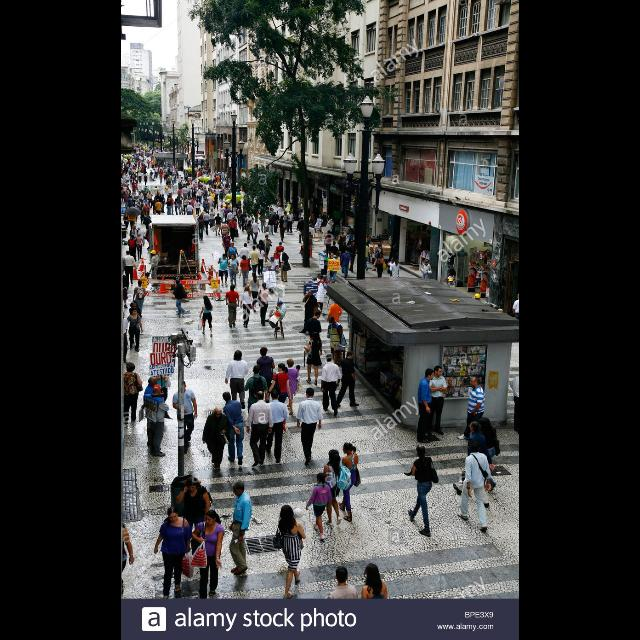head: (334, 567, 350, 585), (366, 564, 380, 580), (281, 504, 295, 520), (232, 479, 245, 496), (206, 509, 218, 526), (186, 478, 198, 492), (468, 440, 482, 452), (168, 507, 178, 523), (480, 418, 492, 430), (342, 442, 353, 454), (417, 445, 428, 457), (293, 508, 303, 520), (471, 422, 481, 434), (426, 368, 436, 380), (330, 451, 340, 462), (471, 378, 482, 388), (270, 391, 280, 402), (178, 381, 188, 392), (317, 474, 327, 484), (434, 366, 444, 376), (256, 391, 266, 401), (148, 377, 158, 387), (126, 362, 136, 372), (307, 388, 315, 398), (224, 392, 232, 402), (215, 408, 223, 418), (154, 385, 162, 395), (347, 350, 355, 360), (278, 363, 286, 372), (254, 366, 262, 374), (312, 333, 320, 341), (235, 351, 242, 359), (262, 348, 268, 357), (288, 359, 294, 367), (327, 354, 333, 362), (316, 311, 322, 319), (330, 317, 336, 325), (132, 308, 138, 316), (132, 300, 138, 308), (334, 298, 340, 304), (308, 290, 314, 296), (278, 300, 284, 306), (322, 275, 328, 281), (262, 282, 268, 288), (244, 286, 250, 292), (230, 285, 236, 291), (252, 272, 258, 278), (120, 312, 126, 318), (138, 280, 144, 286), (151, 251, 157, 257), (242, 255, 248, 261), (277, 250, 283, 256), (232, 253, 236, 260), (204, 295, 208, 301), (175, 280, 181, 284), (126, 250, 130, 256), (224, 253, 228, 259), (268, 264, 272, 270), (200, 214, 204, 220), (274, 210, 278, 216), (352, 240, 356, 246), (380, 252, 384, 258), (395, 259, 399, 265), (378, 243, 384, 247), (425, 260, 429, 266), (131, 235, 135, 239), (138, 233, 142, 237), (132, 226, 136, 230), (231, 243, 235, 247), (244, 244, 248, 248), (253, 246, 257, 250), (271, 258, 275, 262), (259, 246, 263, 250), (265, 235, 269, 239), (226, 232, 230, 236), (248, 220, 252, 224), (281, 216, 285, 220), (284, 212, 288, 216), (300, 217, 304, 221), (346, 249, 350, 253), (334, 255, 338, 259), (343, 242, 347, 246), (333, 242, 337, 246), (363, 242, 367, 246), (392, 258, 396, 262), (448, 267, 452, 271), (204, 198, 208, 202), (204, 186, 208, 190), (183, 196, 187, 200), (168, 198, 172, 202), (146, 212, 150, 216), (124, 212, 128, 216), (131, 212, 135, 216), (140, 203, 144, 207), (148, 190, 152, 194), (232, 218, 235, 222), (328, 230, 332, 233), (351, 229, 354, 233), (262, 212, 266, 215), (197, 200, 200, 203), (280, 242, 282, 246), (224, 222, 228, 224), (212, 208, 214, 212), (256, 220, 258, 224), (290, 211, 292, 215), (324, 250, 326, 254), (248, 214, 250, 218), (198, 188, 202, 190), (190, 202, 192, 206), (176, 198, 178, 202), (156, 200, 160, 202), (178, 188, 182, 190), (130, 196, 132, 200), (138, 192, 142, 194), (207, 212, 210, 214), (226, 207, 228, 210), (342, 232, 344, 235), (310, 232, 312, 235), (170, 196, 173, 198), (162, 195, 164, 198), (136, 197, 138, 200), (125, 192, 127, 195), (133, 192, 135, 195), (190, 188, 193, 190), (218, 214, 220, 216), (230, 210, 232, 212), (222, 206, 224, 208), (244, 212, 246, 214), (204, 210, 206, 212), (209, 194, 211, 196), (216, 196, 218, 198), (213, 192, 215, 194), (222, 190, 224, 192), (192, 198, 194, 200), (178, 194, 180, 196), (155, 198, 157, 200), (158, 192, 160, 194), (156, 187, 158, 189), (170, 187, 172, 189), (184, 186, 186, 188), (146, 204, 148, 206), (145, 174, 147, 176), (140, 171, 142, 173), (161, 173, 163, 175), (152, 170, 152, 172)
person: (153, 505, 195, 605), (453, 421, 497, 509), (403, 444, 441, 538), (190, 509, 226, 608), (272, 504, 308, 602), (458, 440, 494, 534), (174, 476, 214, 556), (322, 448, 354, 528), (228, 479, 254, 577), (296, 386, 324, 466), (246, 390, 274, 468), (142, 384, 170, 458), (202, 404, 232, 472), (264, 363, 294, 431), (243, 364, 271, 436), (457, 376, 487, 442), (476, 416, 502, 492), (264, 389, 290, 465), (172, 380, 198, 456), (338, 442, 362, 522), (222, 390, 246, 468), (306, 472, 332, 542), (426, 364, 450, 438), (138, 376, 162, 450), (223, 348, 250, 410), (416, 368, 436, 444), (334, 350, 360, 408), (321, 354, 344, 418), (122, 362, 144, 426), (256, 346, 276, 412), (302, 330, 324, 386), (284, 358, 302, 418), (304, 310, 324, 362), (326, 316, 348, 362), (299, 289, 319, 337), (264, 298, 288, 334), (126, 307, 144, 353), (326, 296, 344, 340), (315, 274, 333, 314), (171, 278, 189, 318), (198, 295, 215, 337), (128, 300, 144, 344), (258, 282, 272, 328), (226, 284, 240, 330), (132, 280, 148, 320), (292, 507, 306, 551), (240, 285, 254, 329), (123, 250, 139, 286), (247, 272, 261, 312), (262, 262, 278, 296), (276, 249, 292, 283), (121, 312, 131, 364), (372, 252, 388, 284), (126, 234, 142, 264), (240, 255, 254, 288), (148, 250, 160, 288), (238, 243, 252, 275), (265, 254, 281, 282), (444, 264, 458, 296), (389, 258, 401, 294), (218, 253, 230, 287), (228, 253, 240, 287), (249, 245, 261, 279), (339, 240, 351, 274), (328, 240, 340, 274), (227, 242, 240, 272), (318, 250, 330, 282), (340, 248, 352, 280), (421, 259, 433, 291), (134, 232, 146, 262), (328, 254, 340, 284), (323, 230, 335, 260), (372, 242, 384, 272), (348, 240, 358, 274), (128, 225, 140, 253), (274, 241, 286, 269), (296, 216, 308, 244), (387, 256, 398, 286), (337, 231, 348, 259), (262, 234, 272, 264), (222, 231, 232, 259), (278, 215, 288, 243), (258, 245, 266, 278), (221, 222, 231, 248), (196, 215, 206, 241), (252, 219, 262, 245), (228, 218, 238, 242), (246, 220, 256, 244), (363, 241, 371, 271), (154, 198, 164, 222), (143, 212, 153, 236), (238, 210, 248, 232), (122, 212, 132, 234), (128, 210, 138, 232), (138, 203, 148, 225), (346, 228, 356, 248), (203, 212, 211, 236), (200, 208, 208, 232), (283, 210, 291, 233), (286, 210, 294, 233), (259, 210, 267, 233), (244, 213, 253, 233), (214, 214, 222, 236), (226, 210, 234, 232), (177, 194, 185, 216), (188, 186, 196, 208), (196, 187, 204, 207), (186, 202, 194, 222), (182, 196, 190, 216), (168, 195, 176, 215), (160, 194, 168, 214), (144, 202, 152, 222), (146, 190, 154, 210), (210, 208, 217, 230), (223, 207, 231, 226), (219, 204, 227, 223), (193, 200, 201, 218), (202, 198, 210, 216), (165, 198, 173, 216), (166, 186, 174, 204), (181, 185, 189, 203), (132, 196, 140, 214), (121, 192, 129, 210), (137, 191, 145, 209), (274, 210, 280, 233), (128, 196, 134, 218), (210, 190, 217, 208), (220, 188, 227, 206), (308, 232, 314, 252), (190, 197, 196, 216), (207, 194, 213, 212), (214, 194, 220, 212), (203, 186, 209, 204), (174, 198, 180, 216), (156, 192, 162, 210), (152, 198, 158, 215), (153, 185, 159, 202), (177, 186, 183, 202), (130, 192, 136, 208), (137, 170, 143, 184), (160, 172, 164, 185), (144, 175, 148, 187), (150, 169, 154, 181)
